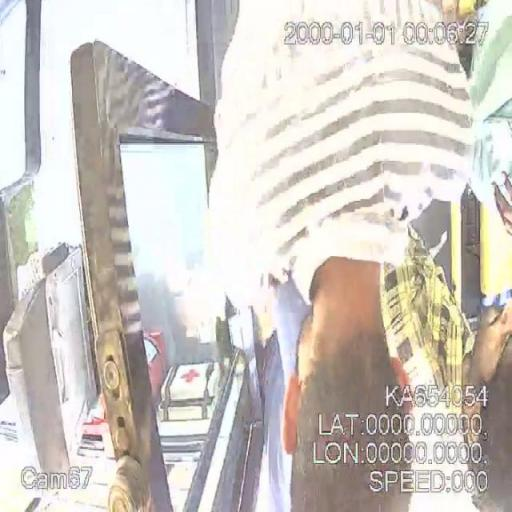persona: (206, 0, 479, 510)
